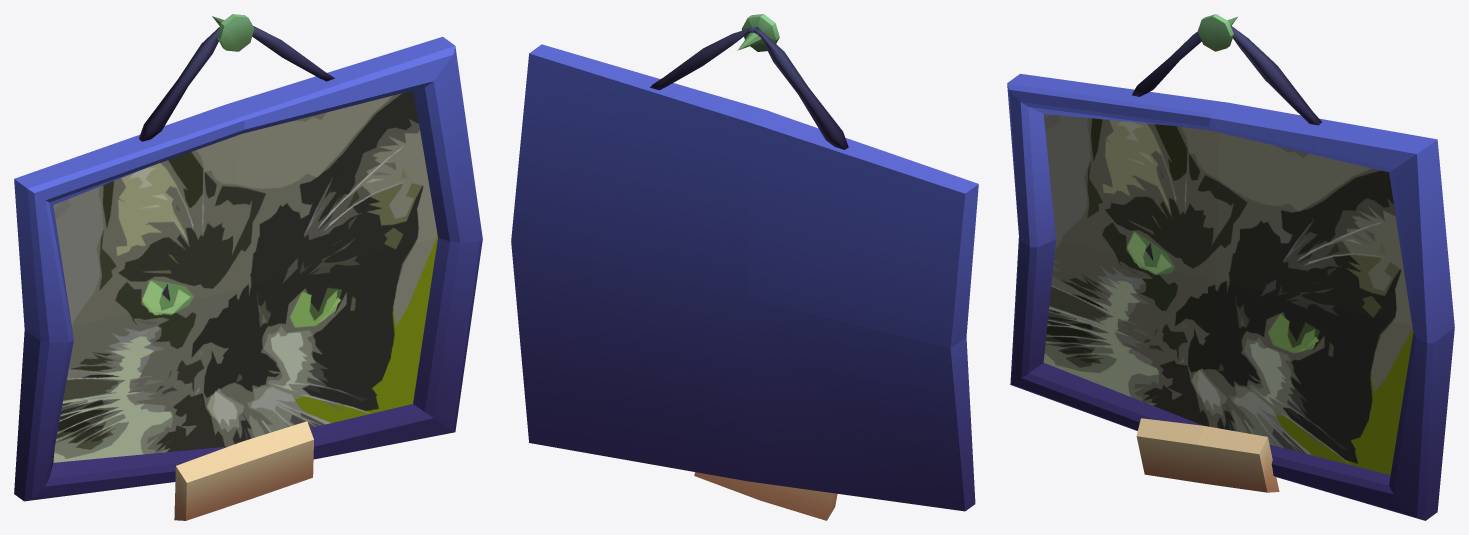
File: Cuadro_B.fbx
3 views of the same model, side by side, from view 1: azimuth 30°, elevation 25°; view 2: azimuth 150°, elevation 25°; view 3: azimuth 330°, elevation 25° (orthographic). The views are drawn at different scales.
Parts seen in each view (by area): view 1: Cuadro_B; view 2: Cuadro_B; view 3: Cuadro_B.
Part boxes in pixels (x1,y1,x2,y2): Cuadro_B: (14,14,482,520); Cuadro_B: (511,14,978,520); Cuadro_B: (1007,14,1454,520).
Bounding box in the file's own units: 583 × 606 × 90.93.
